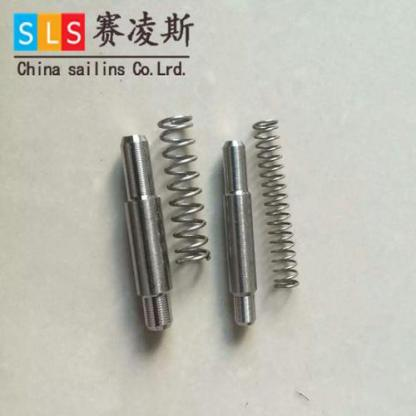FOD: (152, 110, 212, 269), (252, 114, 302, 293)
